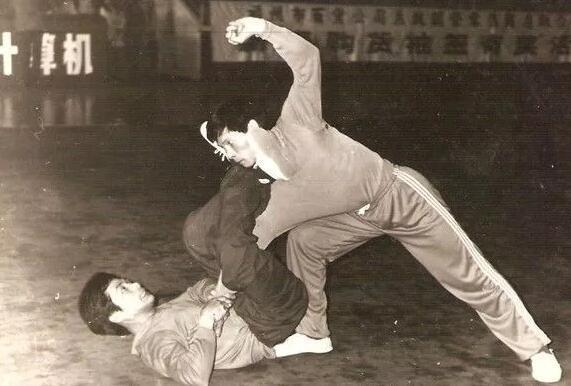bending: (191, 18, 560, 383)
down: (76, 162, 312, 386)
